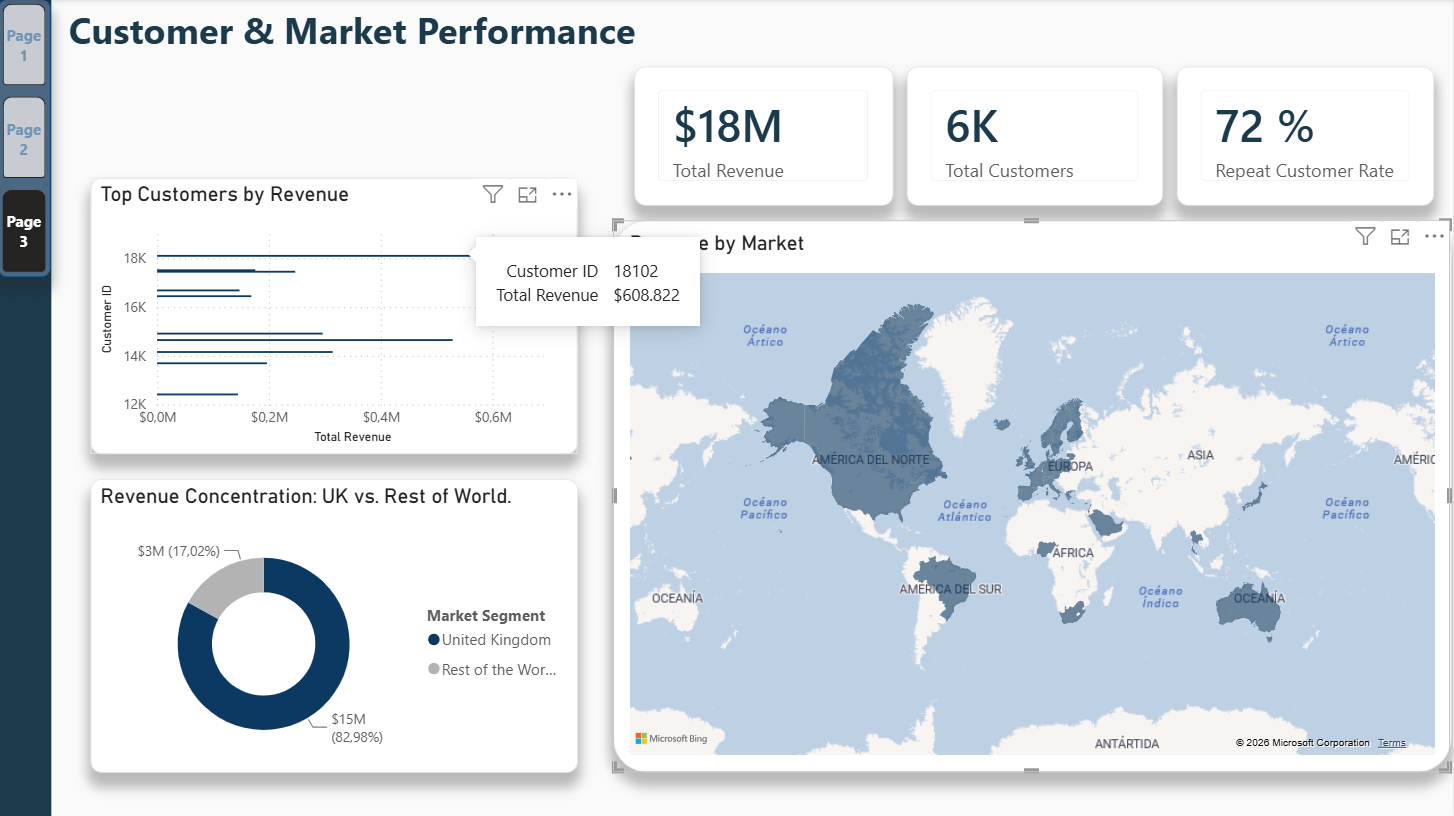

The page's visual inventory and layout, read from the dashboard file:
{"tool":"powerbi","page":{"name":"Page 3","canvas":[1280,720],"ordinal":2},"visuals":[{"type":"textbox","box":[56.8,0,386.4,52.4],"z":0},{"type":"shape","box":[-0.7,0,48,720],"z":1000},{"type":"pageNavigator","box":[0,0,46.6,244.8],"z":2000},{"type":"filledMap","fields":{"Category":["online_retail_cleaned.Country"]},"box":[540.6,194.8,737.6,485.9],"z":3000},{"type":"cardVisual","fields":{"Data":["online_retail_cleaned.Total Revenue"]},"box":[543.2,26.4,227.6,130.8],"z":4000},{"type":"cardVisual","fields":{"Data":["online_retail_cleaned.Total Customers"]},"box":[787.3,27.5,229.8,130.8],"z":5000},{"type":"cardVisual","fields":{"Data":["online_retail_cleaned.Repeat Customer Rate"]},"box":[1035.8,26.4,234.2,130.8],"z":6000},{"type":"clusteredBarChart","fields":{"Category":["online_retail_cleaned.Customer ID"],"Y":["online_retail_cleaned.Total Revenue"]},"box":[81,157.6,429,243],"z":7000},{"type":"donutChart","fields":{"Category":["online_retail_cleaned.Market Segment"],"Y":["online_retail_cleaned.Total Revenue"]},"box":[81,422.4,429,258.3],"z":8000}]}

Visuals, with their boxes on the page's 1280x720 design canvas (x1, y1, x2, y2). These are canvas units, not pixel positions in the 1454x816 screenshot, which may show the page scaled, cropped or inside an application window:
textbox: locate(57, 0, 443, 52)
shape: locate(-1, 0, 47, 720)
pageNavigator: locate(0, 0, 47, 245)
filledMap - online_retail_cleaned.Country: locate(541, 195, 1278, 681)
cardVisual - online_retail_cleaned.Total Revenue: locate(543, 26, 771, 157)
cardVisual - online_retail_cleaned.Total Customers: locate(787, 28, 1017, 158)
cardVisual - online_retail_cleaned.Repeat Customer Rate: locate(1036, 26, 1270, 157)
clusteredBarChart - online_retail_cleaned.Customer ID x online_retail_cleaned.Total Revenue: locate(81, 158, 510, 401)
donutChart - online_retail_cleaned.Market Segment x online_retail_cleaned.Total Revenue: locate(81, 422, 510, 681)
